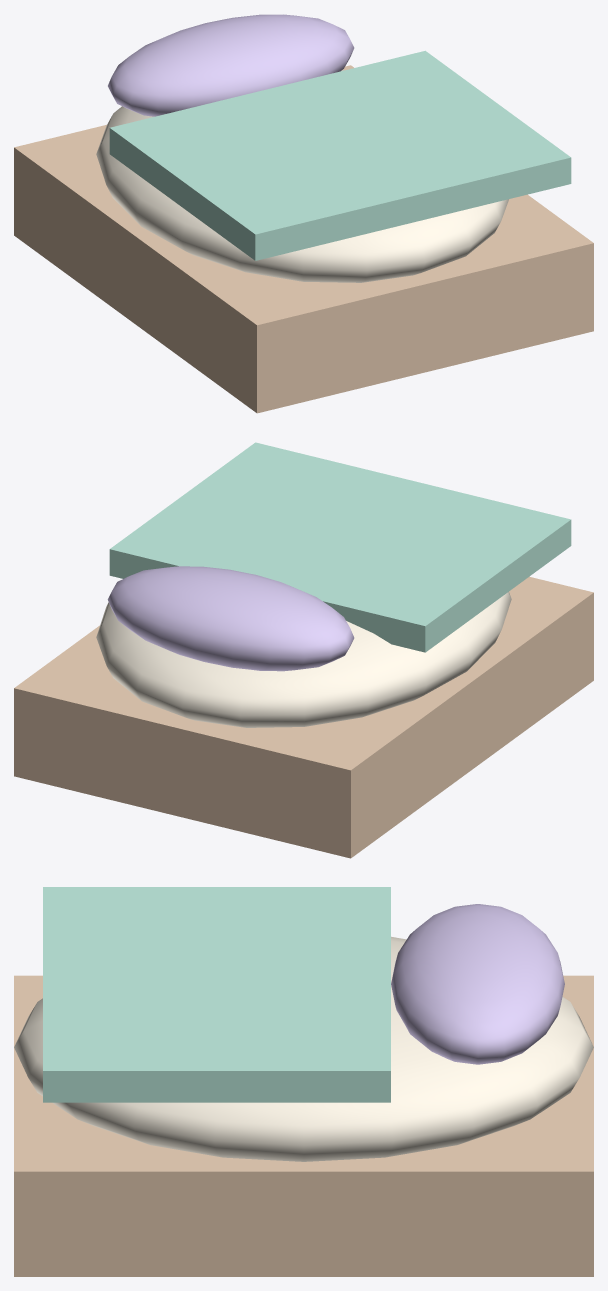
The model's file is bed.glb.
3 renders of one model, top to bottom at view 1: azimuth 30°, elevation 25°; view 2: azimuth 150°, elevation 25°; view 3: azimuth 270°, elevation 25°, orthographic. The views are drawn at different scales.
Parts seen in each view (by area): view 1: base, blanket, mattress, pillow; view 2: base, blanket, mattress, pillow; view 3: base, blanket, mattress, pillow.
Boxes of the visible parts, <box> form: base: <box>14,65,593,413</box>; blanket: <box>109,50,571,260</box>; mattress: <box>96,70,508,282</box>; pillow: <box>108,14,354,116</box>; base: <box>14,576,593,858</box>; blanket: <box>109,442,571,652</box>; mattress: <box>96,592,511,727</box>; pillow: <box>107,566,354,671</box>; base: <box>14,975,593,1276</box>; blanket: <box>43,887,390,1102</box>; mattress: <box>14,936,593,1161</box>; pillow: <box>391,904,564,1064</box>.
Size of the model in its own units: 0.8 by 0.45 by 1.
